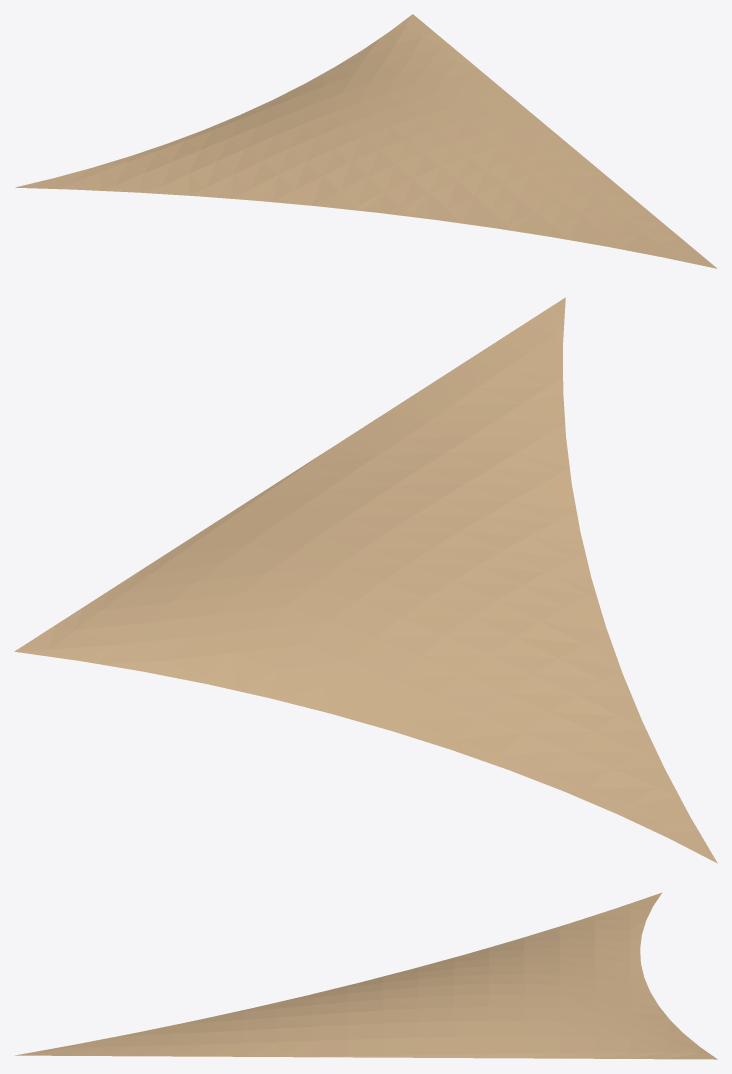
Rendered from Prop_Building_Canopy_Canvas_02.FBX.
The picture shows the model from 3 angles, top to bottom: view 1: azimuth 30°, elevation 25°; view 2: azimuth 150°, elevation 25°; view 3: azimuth 270°, elevation 25°; orthographic projection. The views are drawn at different scales.
Parts seen in each view (by area): view 1: Prop_Building_Canopy_Canvas_02; view 2: Prop_Building_Canopy_Canvas_02; view 3: Prop_Building_Canopy_Canvas_02.
Boxes of the visible parts, x1,y1,x2,y2 form: Prop_Building_Canopy_Canvas_02: (15,14,717,268); Prop_Building_Canopy_Canvas_02: (14,297,717,863); Prop_Building_Canopy_Canvas_02: (15,892,717,1059).
Size of the model in its own units: 10117 by 1194 by 13579.
